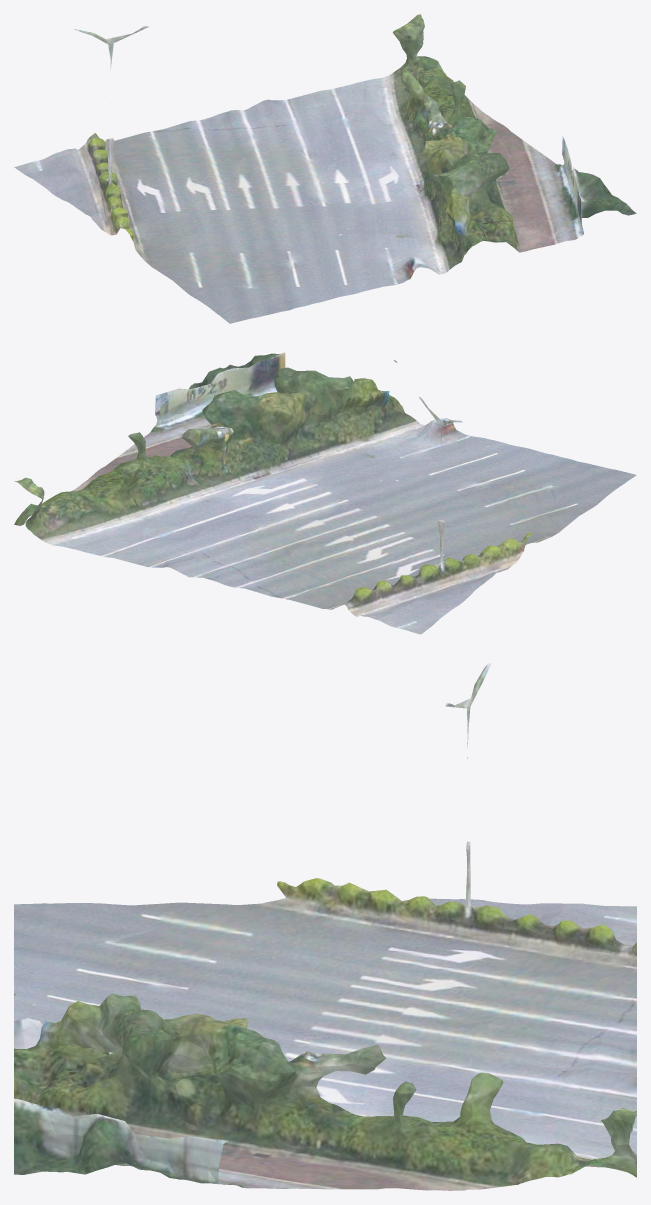
File: Tile_+002_+008_L21_0002300.glb
The picture shows the model from 3 angles, top to bottom: view 1: azimuth 30°, elevation 25°; view 2: azimuth 150°, elevation 25°; view 3: azimuth 270°, elevation 25°; orthographic projection. The views are drawn at different scales.
Parts seen in each view (by area): view 1: rtc; view 2: rtc; view 3: rtc.
Boxes of the visible parts, x1,y1,x2,y2 form: rtc: (14, 14, 636, 323); rtc: (14, 352, 636, 634); rtc: (14, 663, 636, 1190).
Bounding box in the file's own units: 25.63 × 10.53 × 23.56.
Materials: 1 (1 with a texture image).
